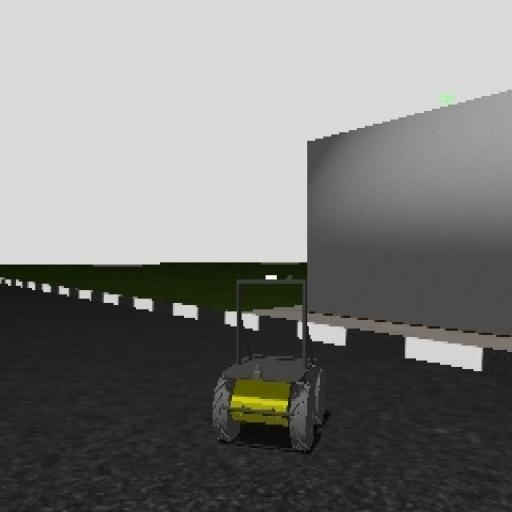huskya200: (184, 259, 338, 462)
